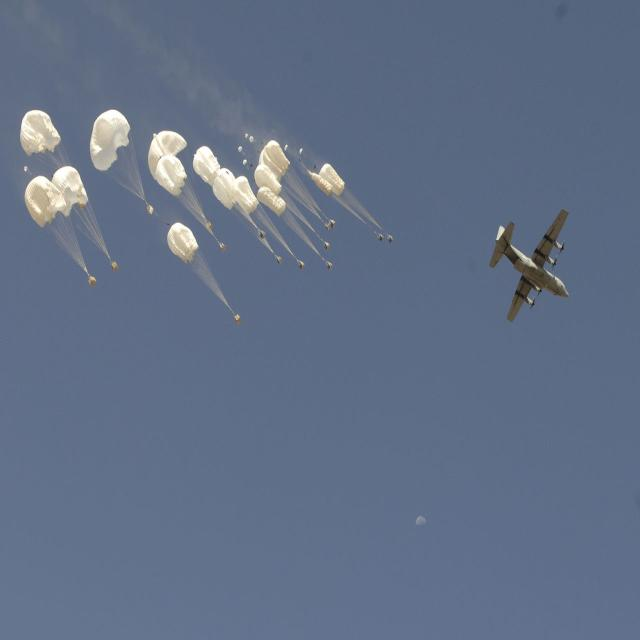MIL_Plane: (485, 208, 567, 323)
